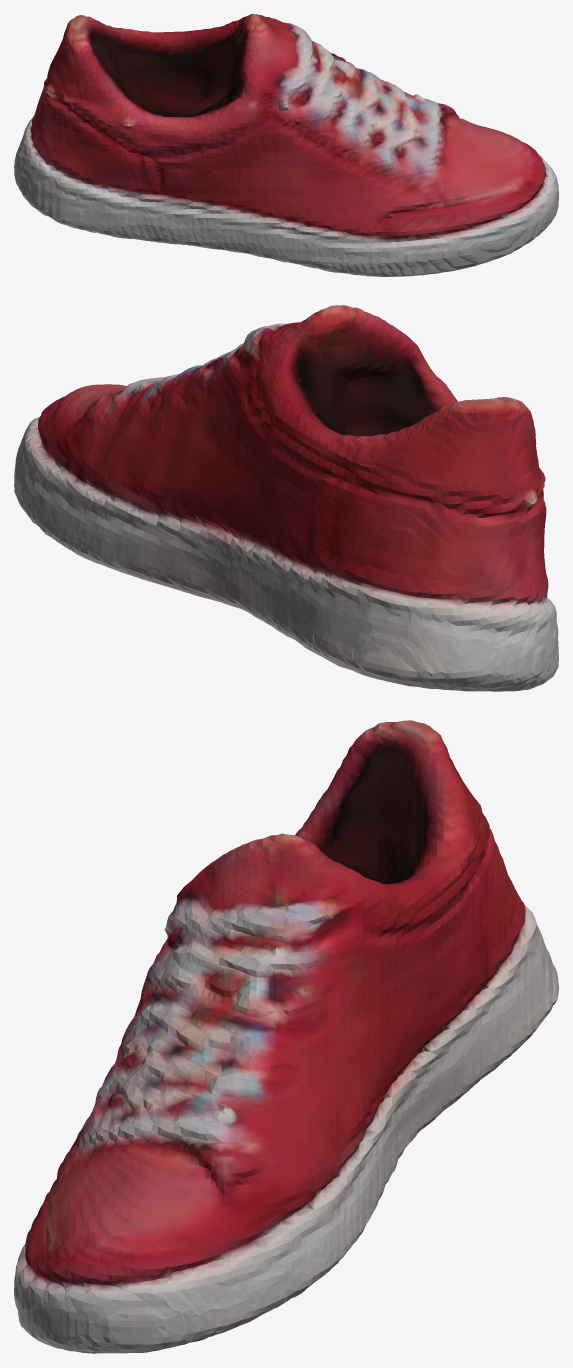
Rendered from sneaker.obj.
3 renders of one model, top to bottom at view 1: azimuth 30°, elevation 25°; view 2: azimuth 150°, elevation 25°; view 3: azimuth 270°, elevation 25°, orthographic. The views are drawn at different scales.
Bounding box in the file's own units: 1.96 × 1 × 1.32.
